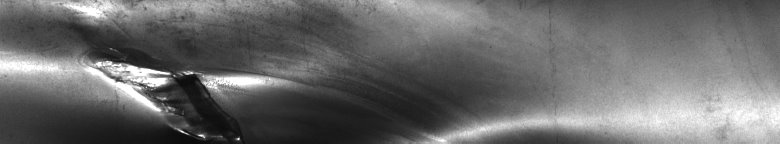ke: (29, 4, 312, 136)
